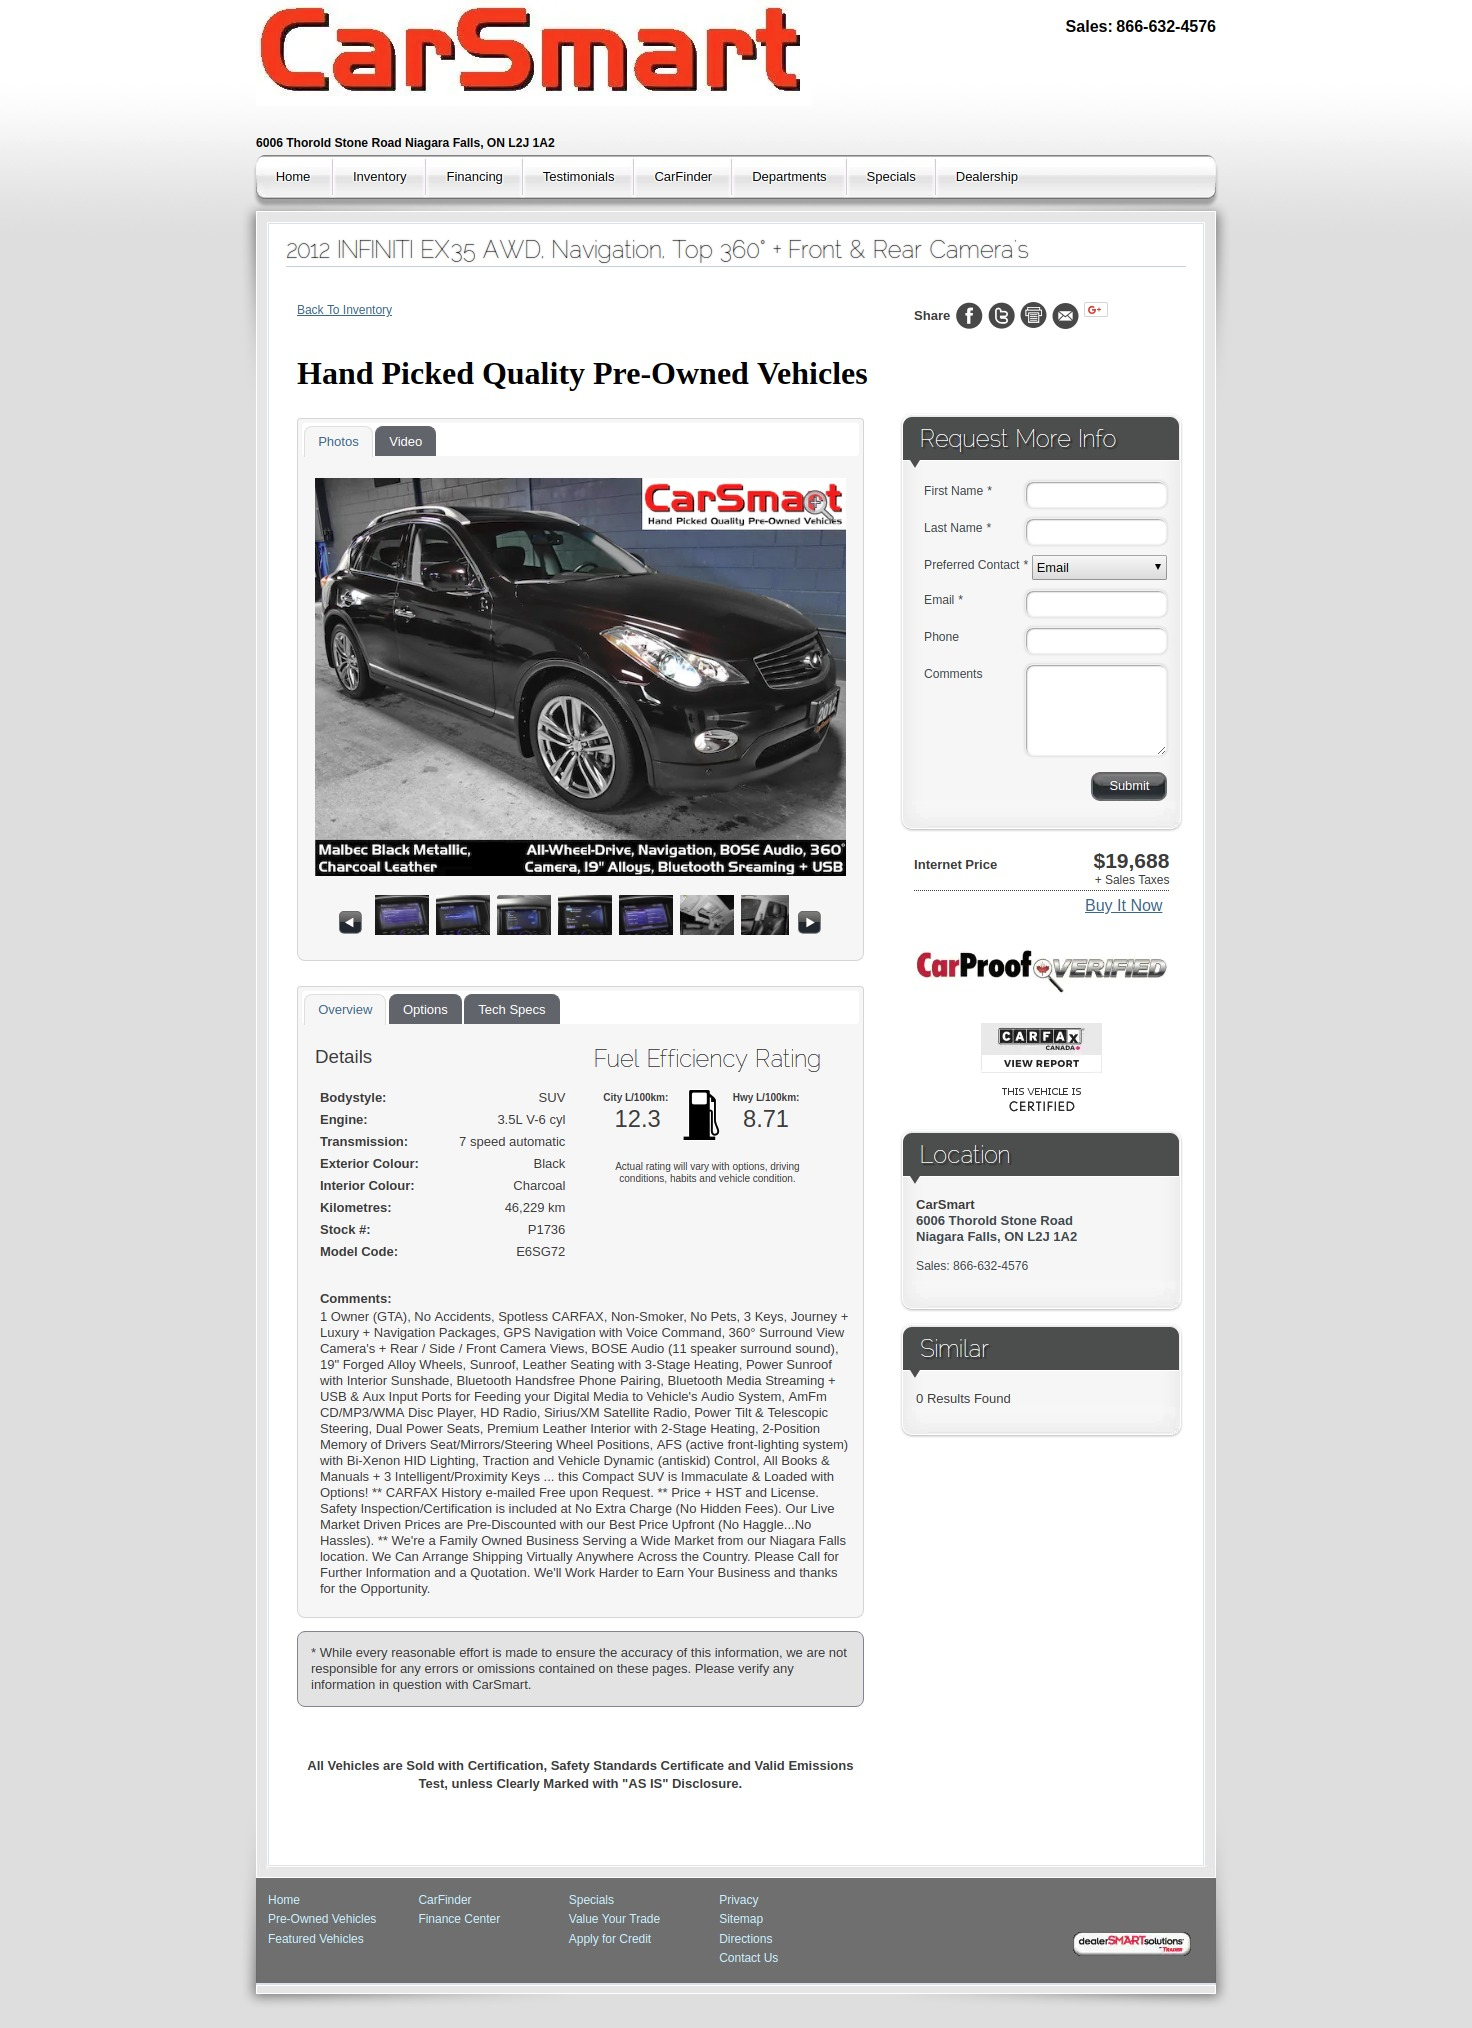car: (798, 912, 823, 935)
